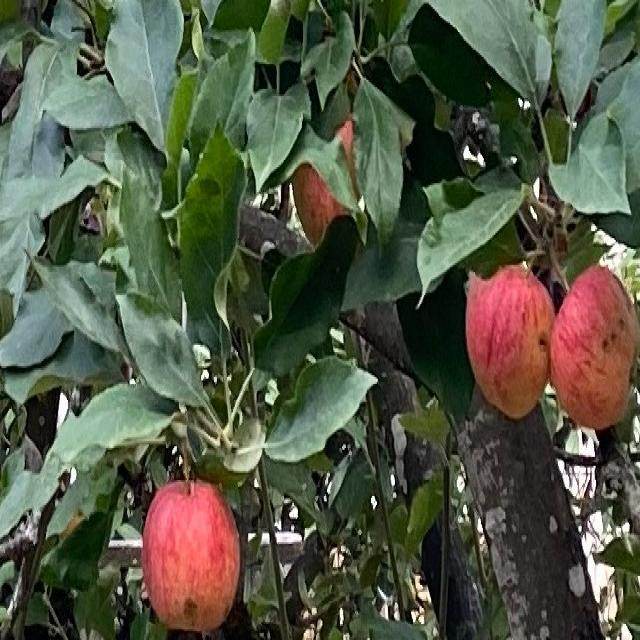Apples: (142, 478, 239, 631), (553, 265, 639, 427), (466, 267, 554, 416), (291, 121, 362, 243)
